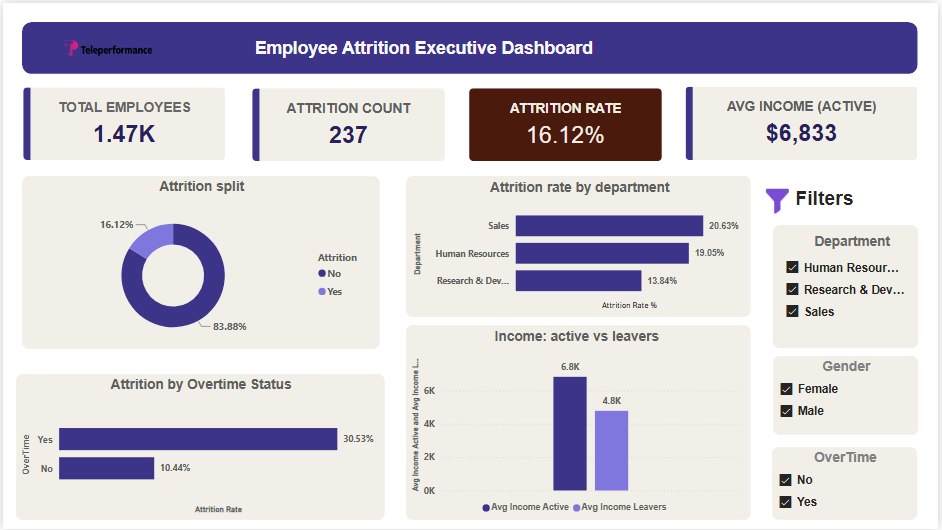

What the dashboard file says about the page in this screenshot:
{"tool":"powerbi","page":{"name":"Dashboard Overview","canvas":[1280,720],"ordinal":0},"visuals":[{"type":"cardVisual","fields":{"Data":["_Measures.Total Employees"]},"box":[9.2,97.7,313.8,136.2],"z":0},{"type":"shape","box":[25.7,26.4,1227.1,71.4],"z":1000},{"type":"textbox","box":[340,42.5,520,40],"z":2000},{"type":"cardVisual","fields":{"Data":["_Measures.Attrition Count"]},"box":[323.3,98,300,136],"z":3000},{"type":"cardVisual","fields":{"Data":["_Measures.Attrition Rate %"]},"box":[620.7,98,300,136],"z":4000},{"type":"cardVisual","fields":{"Data":["_Measures.Avg Income Active"]},"box":[917.9,97.9,352.9,135.7],"z":5000},{"type":"donutChart","title":"Attrition split\n\n","fields":{"Category":["Fact_Employee.Attrition"],"Y":["_Measures.Total Employees"]},"box":[26.7,236.7,490,236.7],"z":6000},{"type":"clusteredBarChart","title":"Attrition rate by department\n\n","fields":{"Y":["_Measures.Attrition Rate %"],"Category":["Dim_Department.Department"]},"box":[551.7,236.7,471.7,193.3],"z":7000},{"type":"clusteredBarChart","title":"Attrition by Overtime Status","fields":{"Y":["_Measures.Attrition Rate %"],"Category":["Dim_OverTime.OverTime"]},"box":[18.3,508.3,505,200],"z":8000},{"type":"clusteredColumnChart","title":"Income: active vs leavers\n\n","fields":{"Y":["_Measures.Avg Income Active","_Measures.Avg Income Leavers"]},"box":[551.7,441.7,471.7,266.7],"z":9000},{"type":"image","box":[50.4,0,185.8,123.8],"z":10000},{"type":"listSlicer","fields":{"Values":["Dim_Department.Department"]},"box":[1054.3,304.3,198.6,169.3],"z":11000},{"type":"textbox","box":[1054.4,247.8,141.1,46.7],"z":12000},{"type":"image","box":[1024.4,253.3,72.2,35.6],"z":13000},{"type":"listSlicer","fields":{"Values":["Dim_Gender.Gender"]},"box":[1054.3,483.6,198.6,107.9],"z":14000},{"type":"listSlicer","fields":{"Values":["Dim_OverTime.OverTime"]},"box":[1053.8,608.8,198.8,100],"z":15000}]}

Visuals, with their boxes in screenshot pixels (x1, y1, x2, y2), scaled from the page's 1280x720 canvas onto the 942x530 screenshot:
cardVisual - _Measures.Total Employees: box=[7, 72, 238, 172]
shape: box=[19, 19, 922, 72]
textbox: box=[250, 31, 633, 61]
cardVisual - _Measures.Attrition Count: box=[238, 72, 459, 172]
cardVisual - _Measures.Attrition Rate %: box=[457, 72, 678, 172]
cardVisual - _Measures.Avg Income Active: box=[676, 72, 935, 172]
"Attrition split

" donutChart: box=[20, 174, 380, 348]
"Attrition rate by department

" clusteredBarChart: box=[406, 174, 753, 317]
"Attrition by Overtime Status" clusteredBarChart: box=[13, 374, 385, 521]
"Income: active vs leavers

" clusteredColumnChart: box=[406, 325, 753, 521]
image: box=[37, 0, 174, 91]
listSlicer - Dim_Department.Department: box=[776, 224, 922, 349]
textbox: box=[776, 182, 880, 217]
image: box=[754, 186, 807, 213]
listSlicer - Dim_Gender.Gender: box=[776, 356, 922, 435]
listSlicer - Dim_OverTime.OverTime: box=[776, 448, 922, 522]
